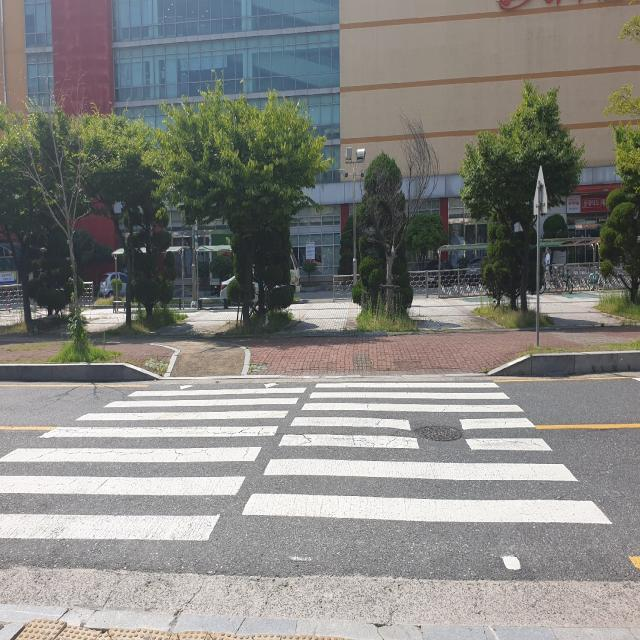횡단보도: (0, 382, 612, 569)
